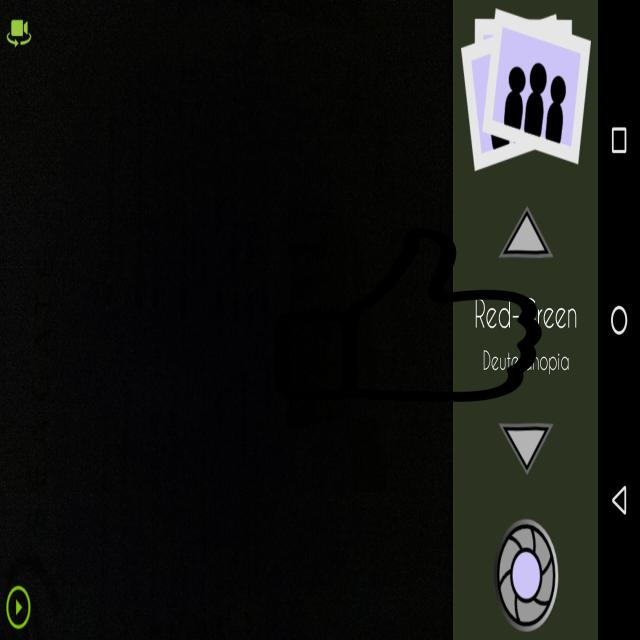privacy zuckering: (270, 228, 546, 402)
